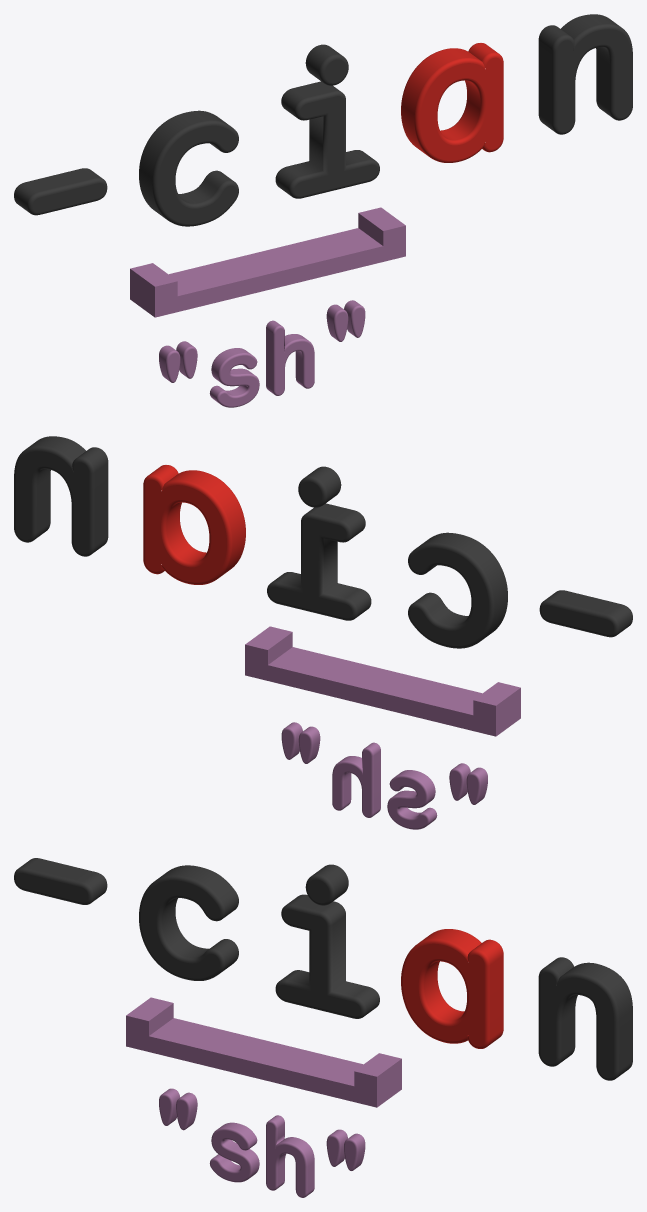
Rendered from -cian.gltf.
3 renders of one model, top to bottom at view 1: azimuth 30°, elevation 25°; view 2: azimuth 150°, elevation 25°; view 3: azimuth 330°, elevation 25°, orthographic.
Visible parts, largest first — view 1: Cube.000, Text.005, Text.003, Text.002, Text, Text.001; view 2: Cube.000, Text.005, Text.003, Text.002, Text, Text.001; view 3: Cube.000, Text.005, Text.003, Text.002, Text, Text.001.
Boxes of the visible parts, x1,y1,x2,y2 form: Cube.000: (130, 207, 405, 317); Text.005: (14, 110, 238, 226); Text.003: (401, 43, 503, 162); Text.002: (538, 14, 632, 134); Text: (275, 44, 379, 198); Text.001: (159, 300, 365, 407); Cube.000: (245, 626, 520, 736); Text.005: (408, 532, 632, 648); Text.003: (143, 465, 245, 584); Text.002: (14, 436, 108, 556); Text: (267, 466, 371, 620); Text.001: (281, 722, 487, 829); Cube.000: (126, 997, 401, 1107); Text.005: (14, 858, 238, 980); Text.003: (401, 929, 503, 1048); Text.002: (538, 957, 632, 1080); Text: (275, 864, 379, 1018); Text.001: (159, 1088, 365, 1197).
Bounding box in the file's own units: 2.68 × 1.4 × 0.1906.
